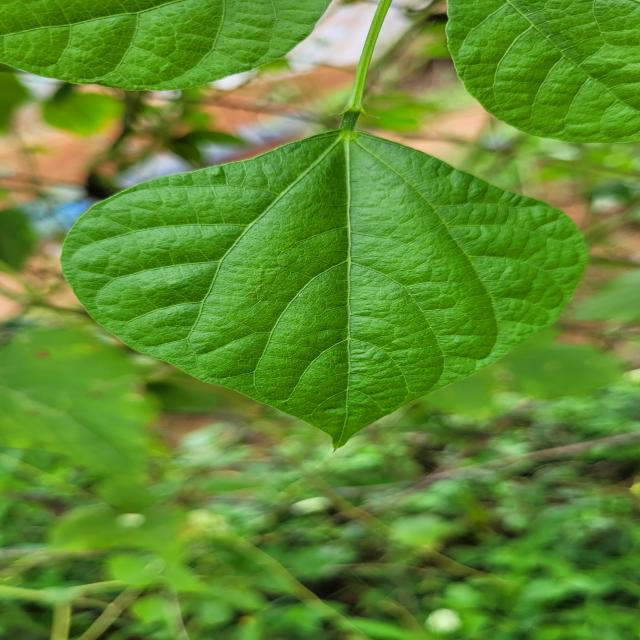Dolicos bean_healthy: (60, 129, 580, 448), (426, 0, 640, 159), (0, 0, 328, 95)
